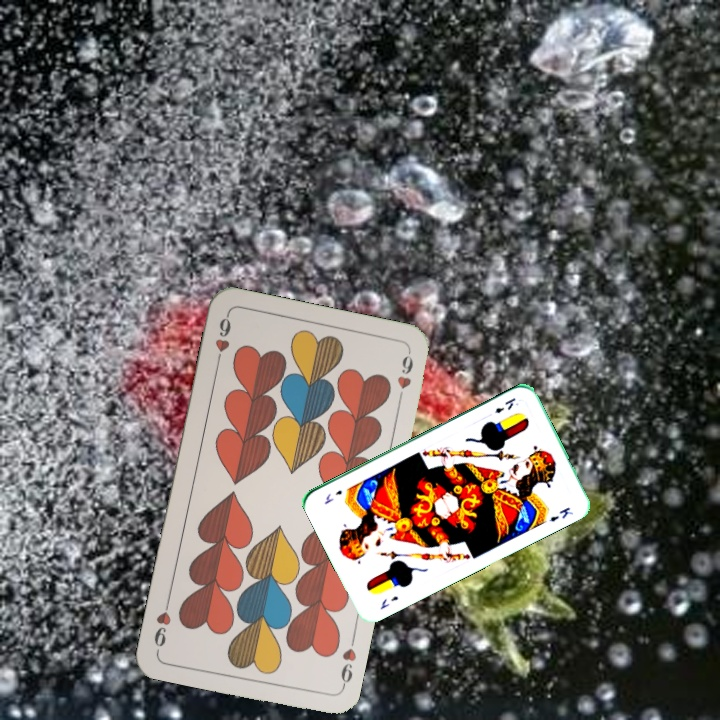EK: (491, 394, 518, 416), (376, 592, 401, 612)
H9: (211, 311, 234, 369), (336, 644, 359, 692)
